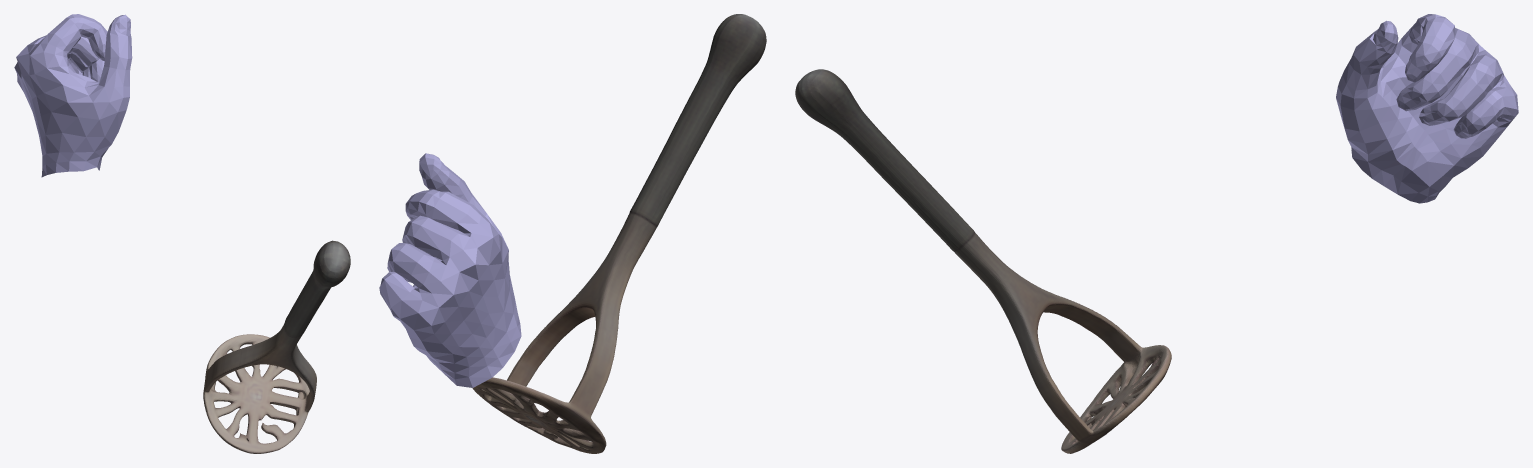
The model's file is frame_0018_source_000018_hand_object.glb.
The picture shows the model from 3 angles, left to right: view 1: azimuth 30°, elevation 25°; view 2: azimuth 150°, elevation 25°; view 3: azimuth 270°, elevation 25°; orthographic projection. The views are drawn at different scales.
Parts seen in each view (by area): view 1: world; view 2: world; view 3: world.
Boxes of the visible parts, <box> form: world: <box>14,14,350,453</box>; world: <box>379,14,766,453</box>; world: <box>795,14,1518,453</box>.
Bounding box in the file's own units: 0.1105 × 0.2505 × 0.3947.
